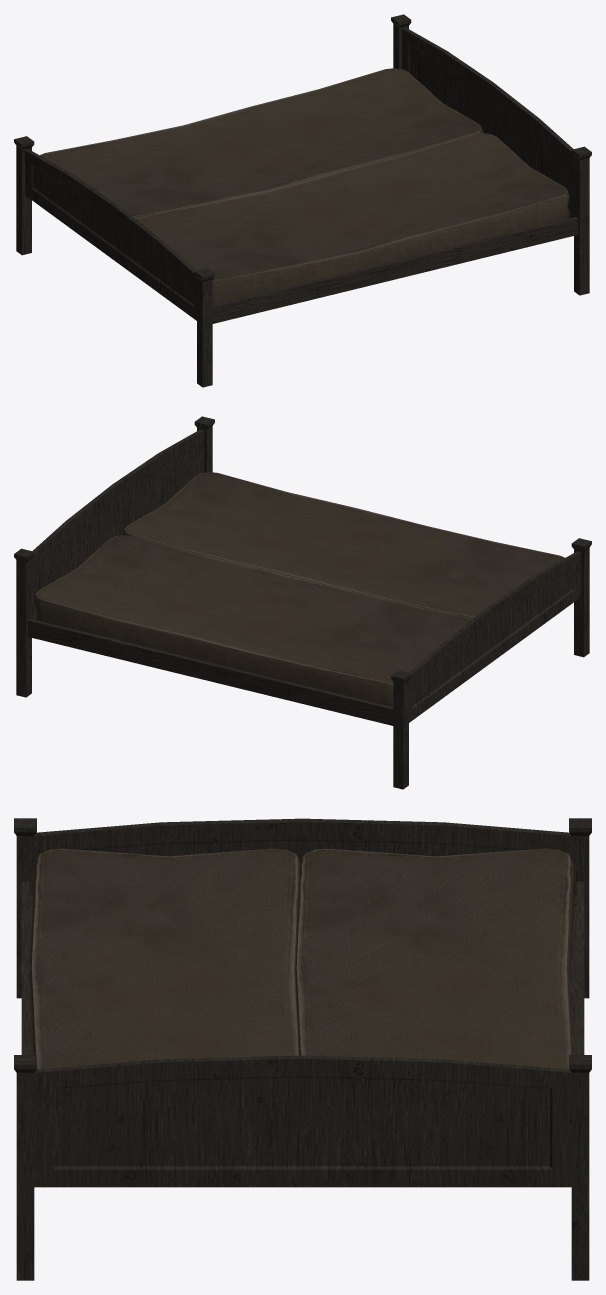
The model's file is bed_4.glb.
The picture shows the model from 3 angles, top to bottom: view 1: azimuth 30°, elevation 25°; view 2: azimuth 150°, elevation 25°; view 3: azimuth 270°, elevation 25°; orthographic projection. The views are drawn at different scales.
Parts seen in each view (by area): view 1: bed_4; view 2: bed_4; view 3: bed_4.
Boxes of the visible parts, x1,y1,x2,y2 form: bed_4: (14,14,591,387); bed_4: (14,416,591,789); bed_4: (14,818,591,1280).
Size of the model in its own units: 2.74 by 0.9621 by 2.29.
2 materials, 2 textured.
